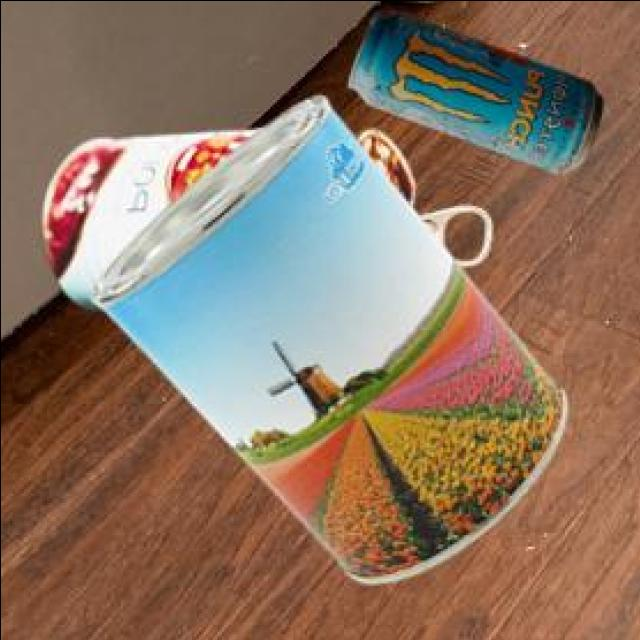logam: (93, 91, 570, 579), (45, 125, 494, 307), (351, 10, 604, 169)
